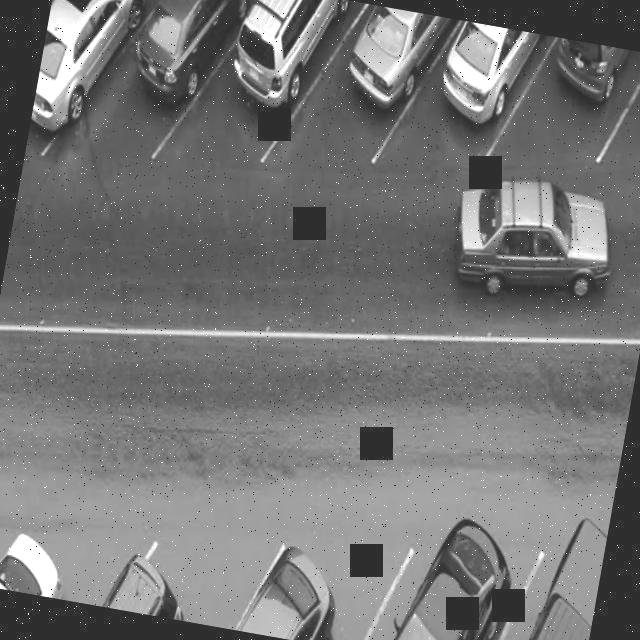car: (52, 0, 277, 209), (165, 0, 372, 200), (293, 0, 497, 199), (180, 470, 390, 640), (20, 0, 188, 200), (398, 13, 580, 188), (316, 487, 510, 640), (38, 481, 234, 626), (483, 27, 640, 185), (467, 494, 610, 640), (0, 486, 106, 604), (20, 0, 63, 178), (600, 48, 640, 176), (578, 526, 608, 640)
